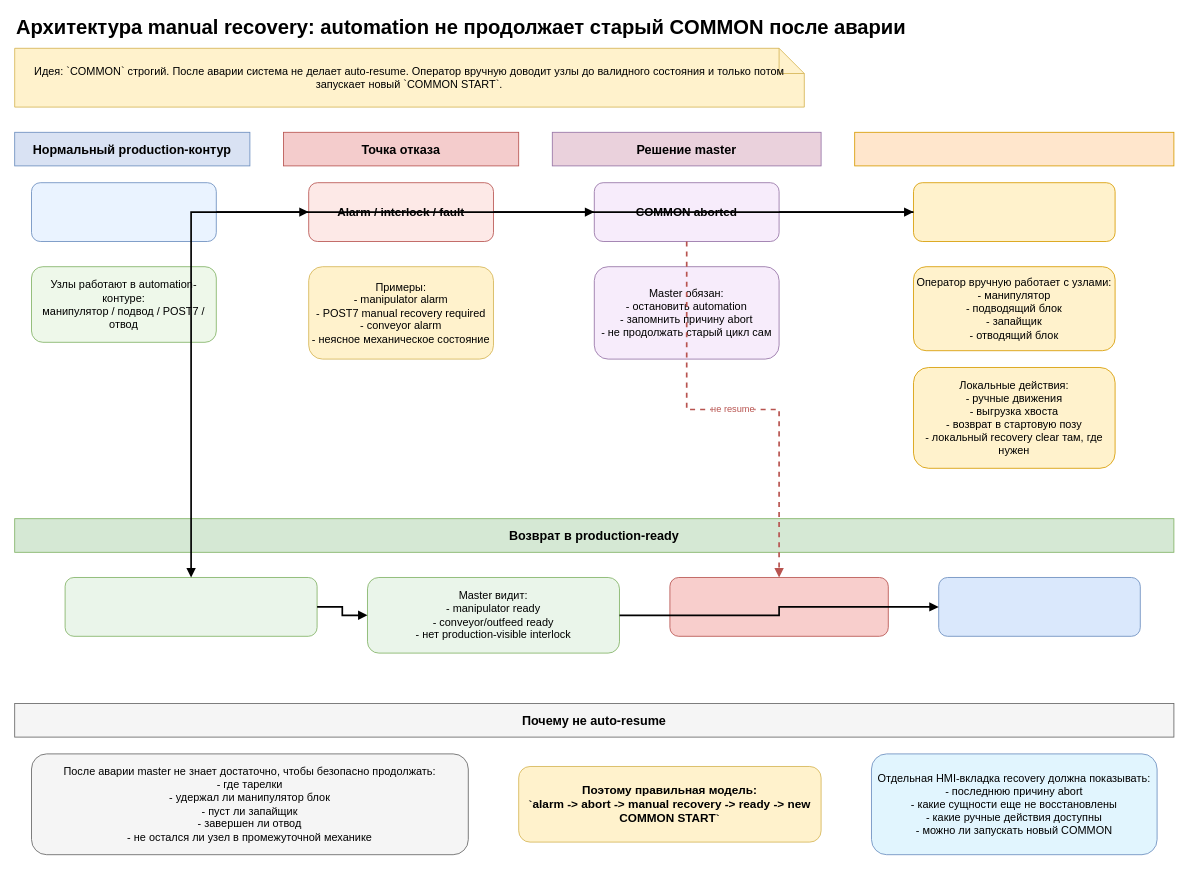
Some shapes in this 1189 by 869 pixel diagram are drawn without their labels. Here are the shapes that lost their labels. From the top down, the centre of each, then its label:
point 1014,148: Recovery-контур оператора
point 123,212: COMMON active
point 1014,212: Manual recovery required
point 190,606: Все обязательные сущности снова в `ready`
point 778,606: Старый COMMON не возобновляется
point 1039,606: Оператор запускает новый `COMMON START`
